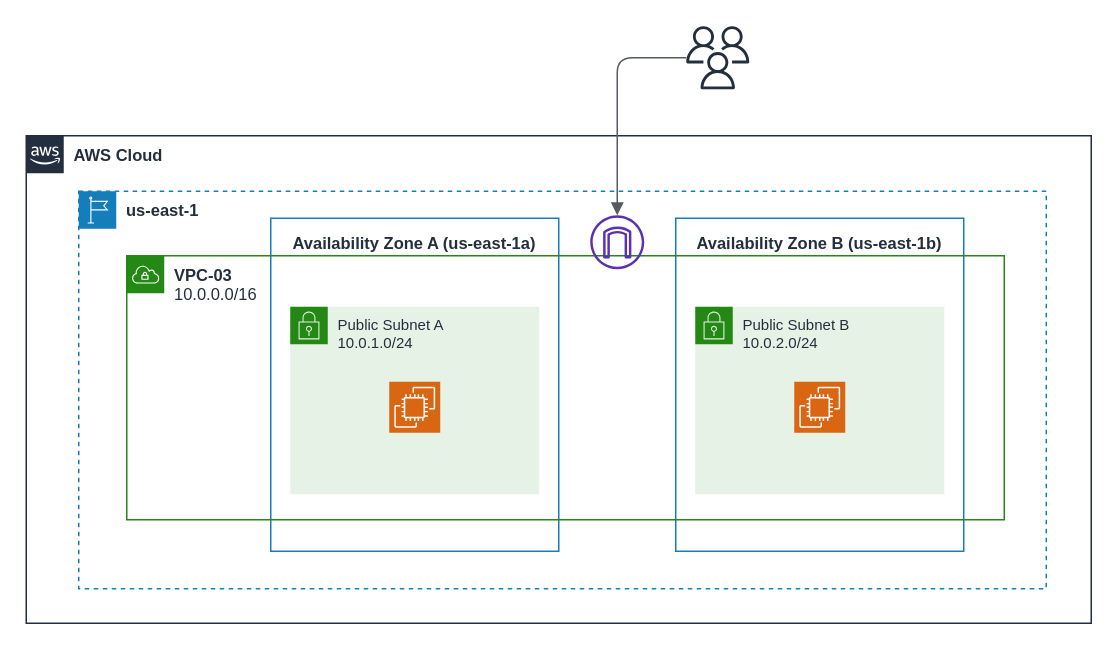
Some shapes in this 1118 by 650 pixel diagram are drawn without their labels. The centre of each missing label's shape, as x and y in pixels:
"ec2-a" goes at point 414,406.
"ec2-b" goes at point 819,406.
"Internet Gateway (IGW-VPC-03)" goes at point 617,241.
